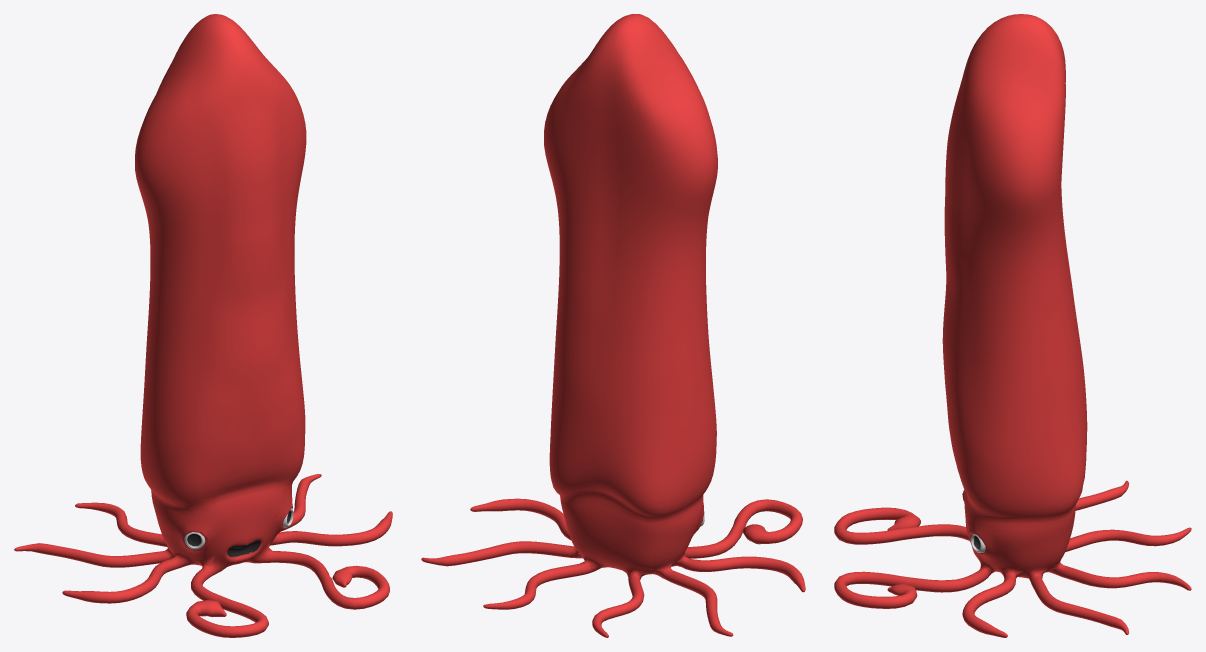
The picture shows the model from 3 angles, left to right: view 1: azimuth 30°, elevation 25°; view 2: azimuth 150°, elevation 25°; view 3: azimuth 270°, elevation 25°; orthographic projection.
Parts seen in each view (by area): view 1: Geode; view 2: Geode; view 3: Geode.
Part boxes in pixels (x1,y1,x2,y2): Geode: [14, 14, 392, 637]; Geode: [421, 14, 805, 637]; Geode: [834, 14, 1191, 637].
Size of the model in its own units: 7.15 by 11.22 by 6.6.
3 materials, 3 textured.
